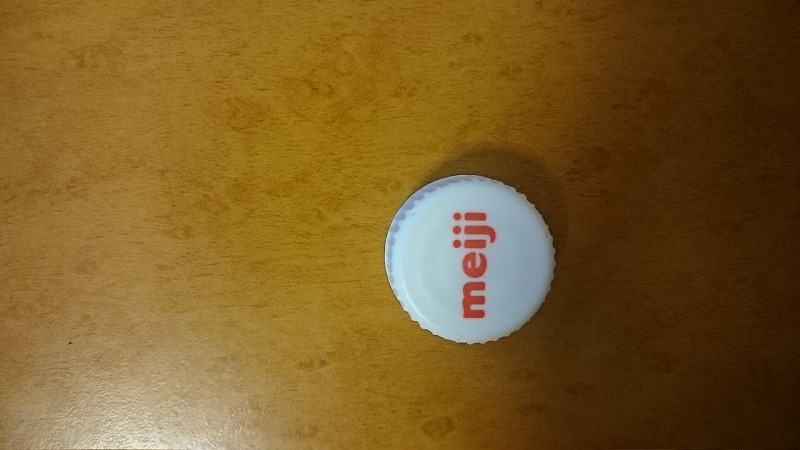B: (377, 167, 563, 352)
